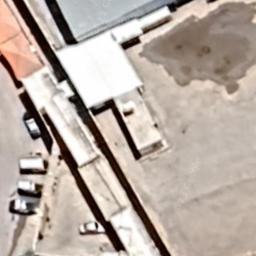sedan: (78, 221, 106, 234)
unknown: (12, 200, 35, 214)
van: (19, 157, 49, 175), (16, 180, 44, 195), (24, 118, 42, 136)
